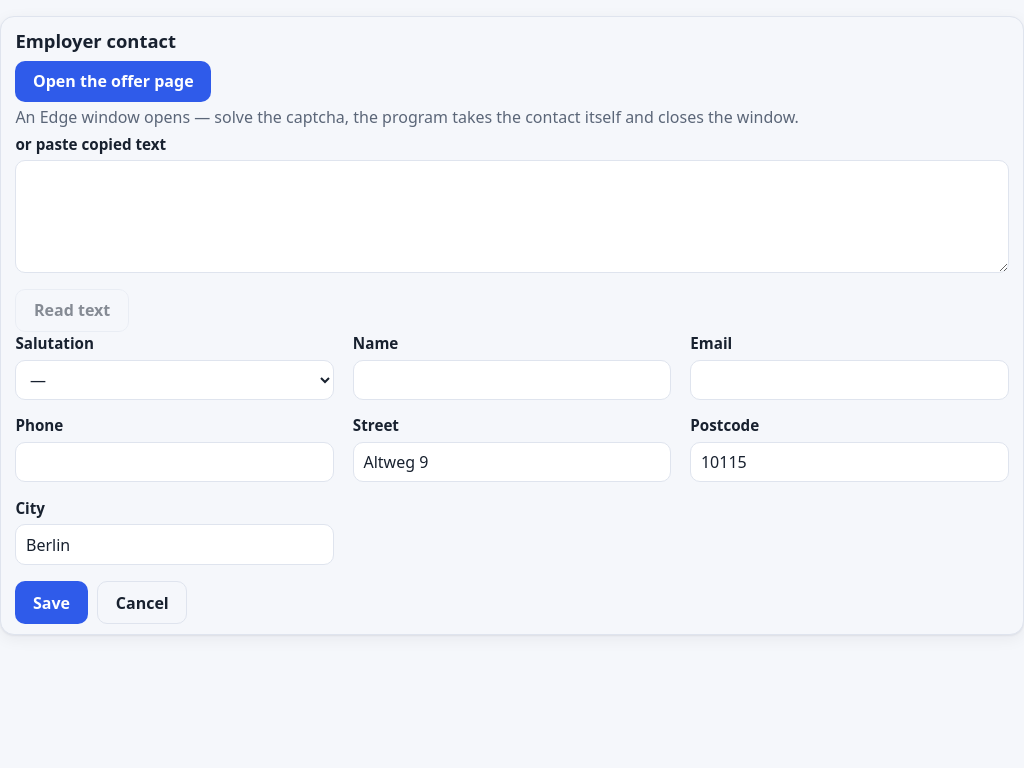
ContactDialog › a found address part replaces the whole address (street, postcode, city)
Click the button "Open the offer page": (113, 81) [15,61,211,102]
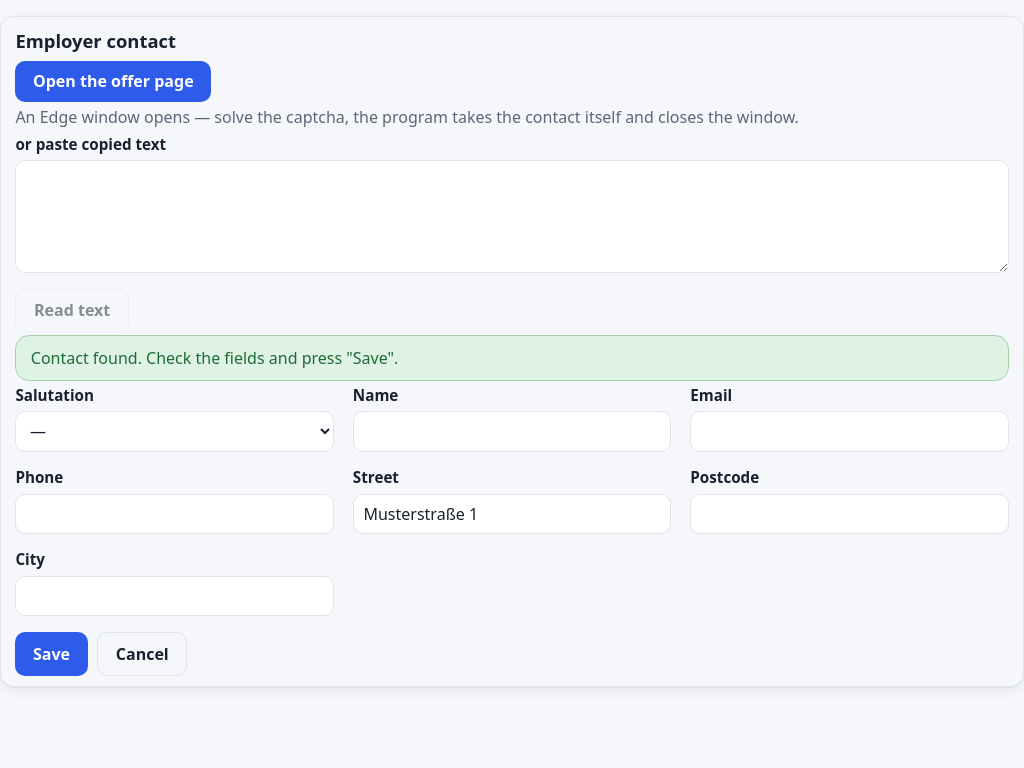
Expected: the text "Contact found. Check the fields and press \"Save\"." is shown, [15,335,1009,380]
Expected: the field labelled "Street" holds "Musterstraße 1", [353,494,671,534]
Expected: the field labelled "City" is empty, [15,576,334,616]
